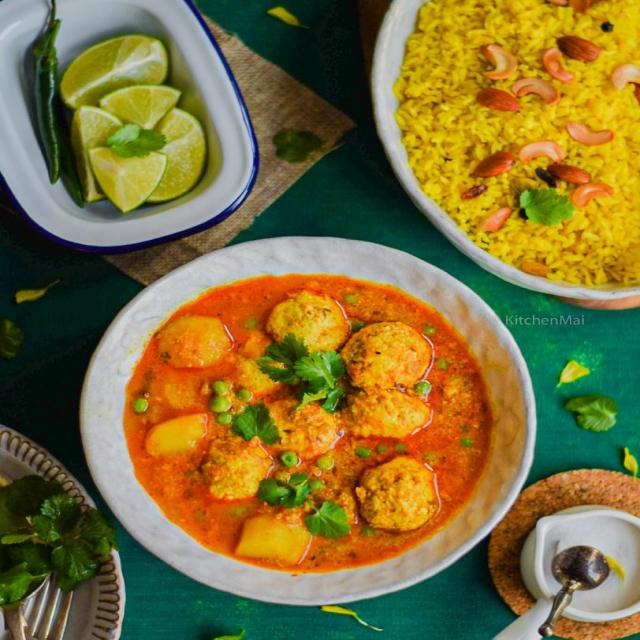rice: (442, 20, 633, 175)
